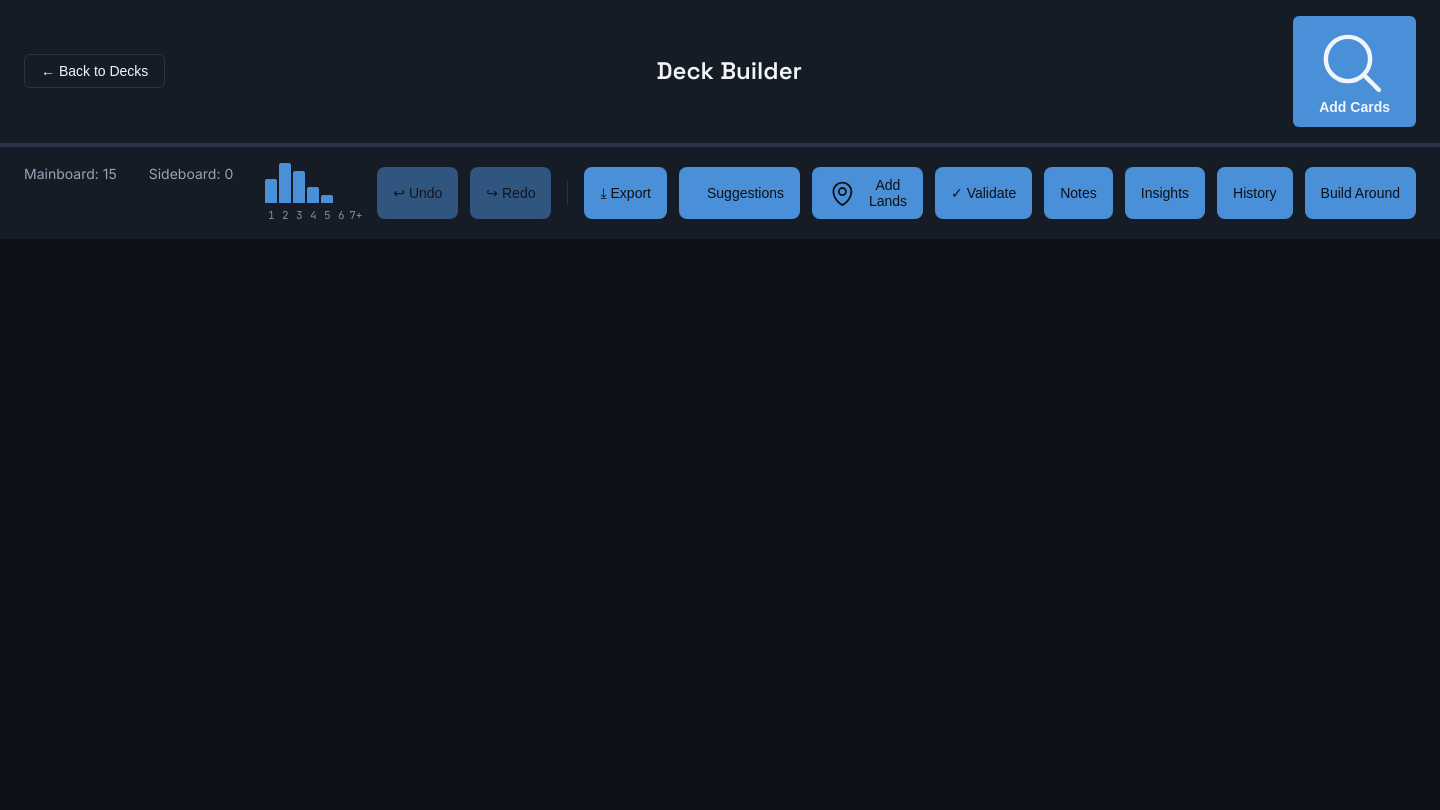
Test case: DeckBuilder Component - Export and Validate › Build Around Functionality › should open Build Around modal when button is clicked
Click Build Around button
What coordinates should you click on to do the following:
click the button "Build Around"
I would click on:
 (1360, 193)
Its box is x1=1305 y1=167 x2=1416 y2=219.
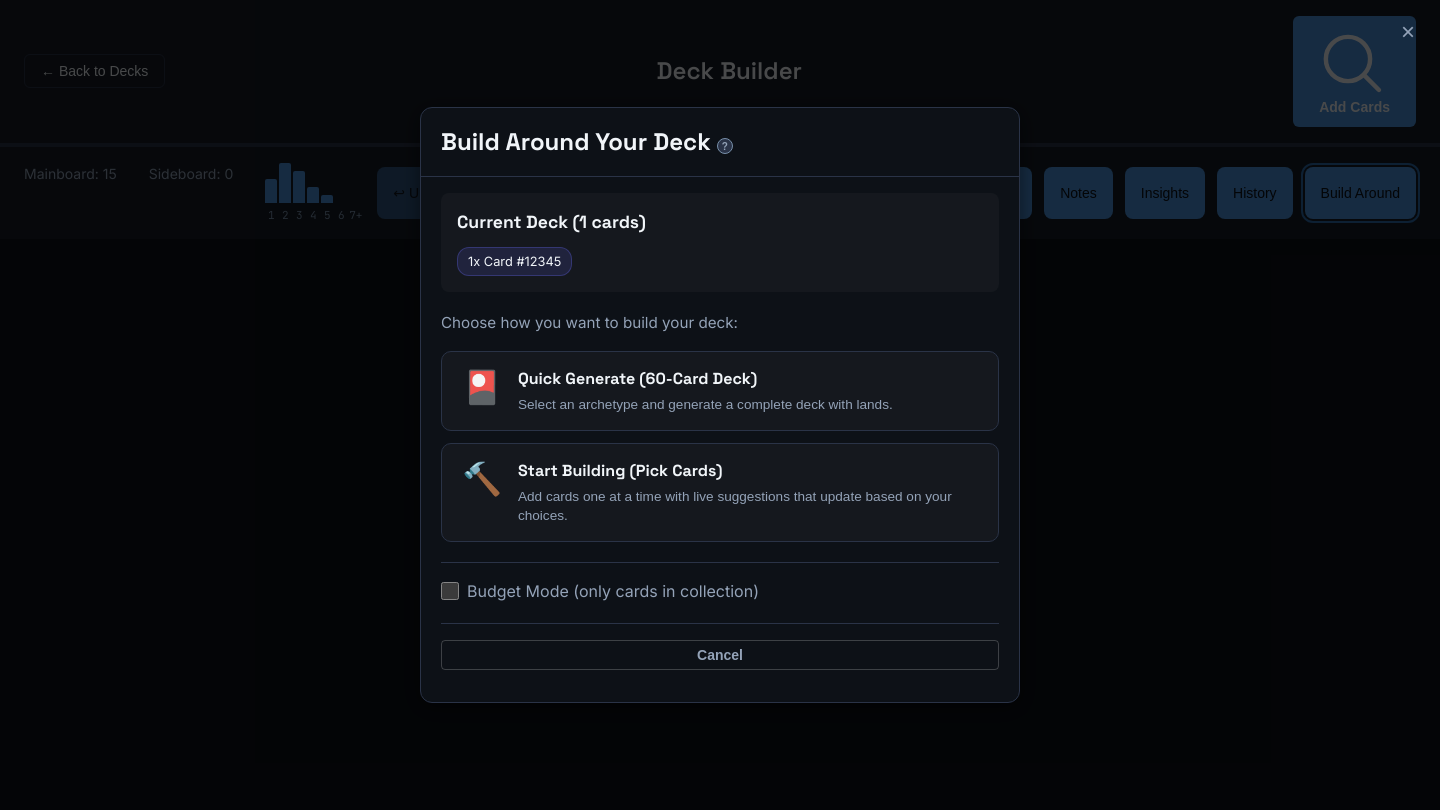
Expected: the heading "Build Around Your Deck ?" is shown, x1=441 y1=124 x2=733 y2=160
